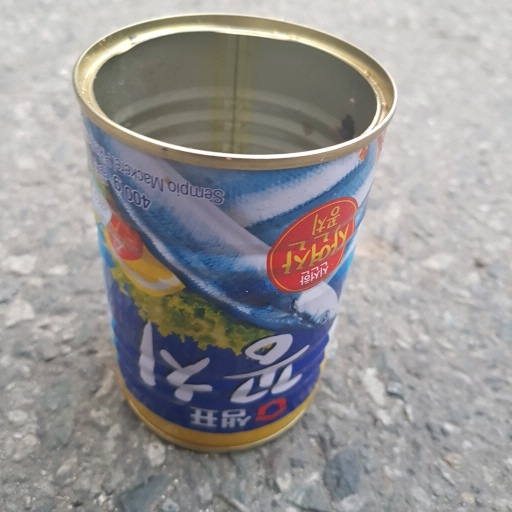Metal_1: (72, 13, 399, 454)
